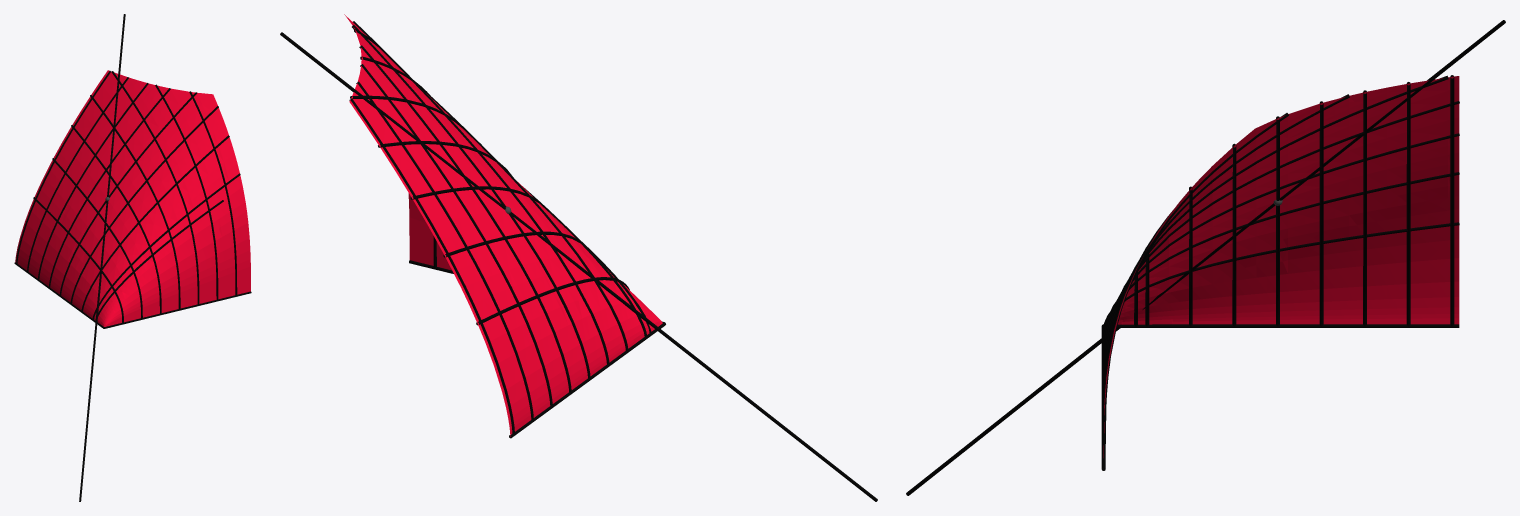
Rendered from LetraE1.dae.
3 renders of one model, left to right at view 1: azimuth 30°, elevation 25°; view 2: azimuth 150°, elevation 25°; view 3: azimuth 270°, elevation 25°, orthographic. The views are drawn at different scales.
Parts seen in each view (by area): view 1: f_22, f_23, RetaTangente, f_3, f_4, f_2, f_14, f_13, f_15, f_5, f_12, f (+7 smaller); view 2: f_22, f_23, RetaTangente, f_13, f_12, f_11, f_9, f_10, f_14, f_15, f_8; view 3: f_22, f_23, RetaTangente, f, f_8, f_3, f_4, f_9, f_5, f_7, f_6, f_10 (+5 smaller).
Part boxes in pixels (bbox=[...]): f_22: bbox=[15, 70, 250, 326]; f_23: bbox=[17, 71, 250, 326]; RetaTangente: bbox=[79, 14, 125, 501]; f_3: bbox=[111, 71, 199, 304]; f_4: bbox=[90, 95, 180, 309]; f_2: bbox=[155, 84, 218, 300]; f_14: bbox=[70, 106, 218, 303]; f_13: bbox=[59, 92, 197, 295]; f_15: bbox=[81, 135, 229, 311]; f_5: bbox=[71, 125, 161, 314]; f_12: bbox=[49, 88, 170, 287]; f: bbox=[189, 91, 237, 295]; f_22: bbox=[344, 14, 662, 436]; f_23: bbox=[349, 20, 660, 433]; RetaTangente: bbox=[280, 32, 877, 501]; f_13: bbox=[352, 25, 590, 379]; f_12: bbox=[359, 45, 571, 393]; f_11: bbox=[360, 64, 552, 406]; f_9: bbox=[349, 98, 514, 434]; f_10: bbox=[356, 81, 533, 420]; f_14: bbox=[353, 21, 609, 365]; f_15: bbox=[431, 97, 628, 351]; f_8: bbox=[509, 322, 665, 438]; f_22: bbox=[1103, 76, 1459, 457]; f_23: bbox=[1104, 77, 1459, 406]; RetaTangente: bbox=[906, 20, 1505, 495]; f: bbox=[1101, 113, 1288, 454]; f_8: bbox=[1117, 324, 1459, 327]; f_3: bbox=[1101, 75, 1448, 417]; f_4: bbox=[1101, 101, 1459, 399]; f_9: bbox=[1450, 75, 1454, 326]; f_5: bbox=[1101, 133, 1459, 380]; f_7: bbox=[1101, 222, 1459, 343]; f_6: bbox=[1101, 172, 1459, 362]; f_10: bbox=[1406, 82, 1410, 326].
Size of the model in its own units: 23.45 by 27.53 by 33.64.
